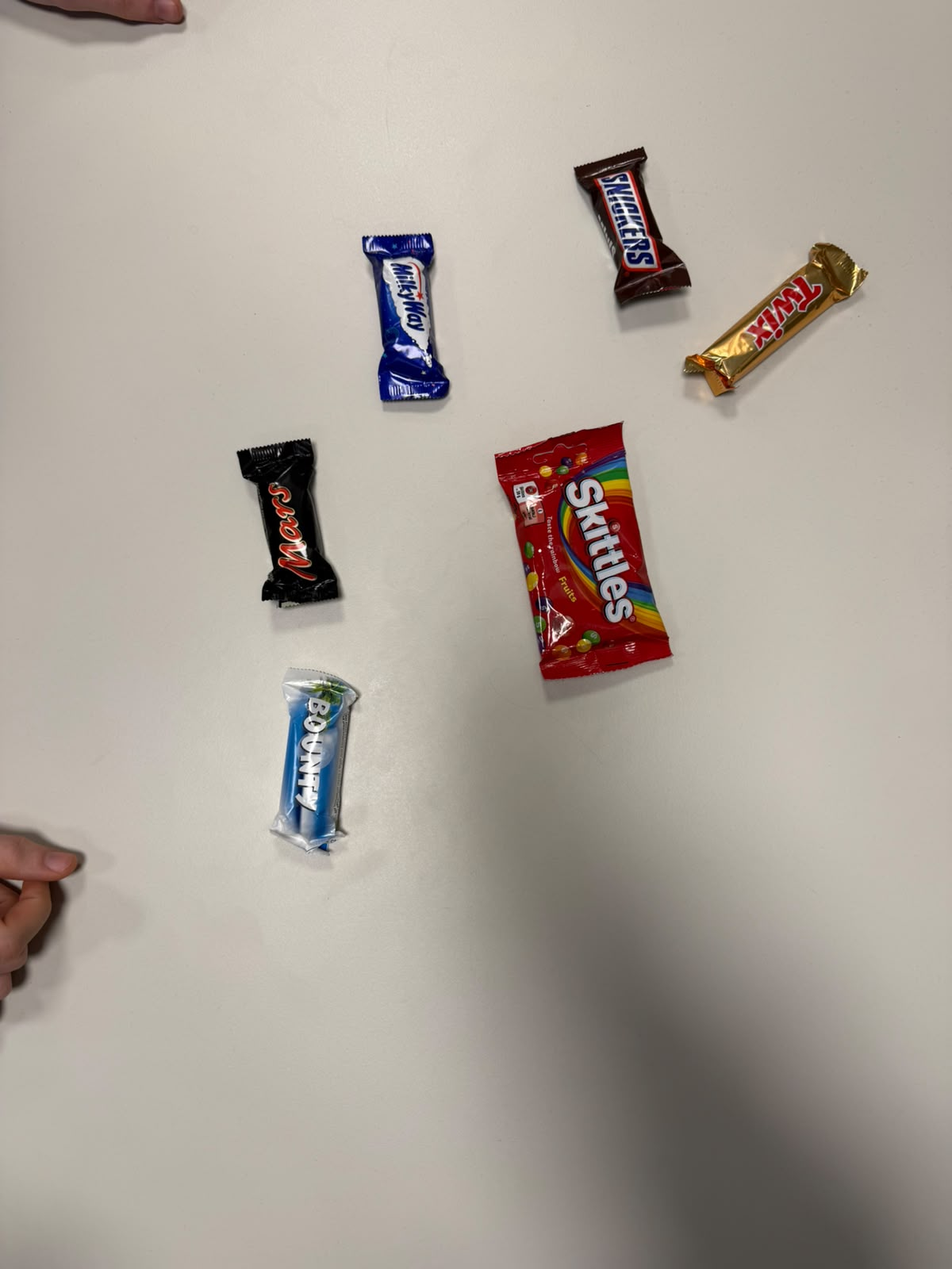Bounty: (266, 659, 364, 863)
Mars: (232, 449, 343, 624)
MilkyWay: (353, 234, 466, 414)
Skittles: (442, 466, 653, 717)
Snickers: (560, 173, 663, 326)
Twix: (662, 358, 881, 431)
